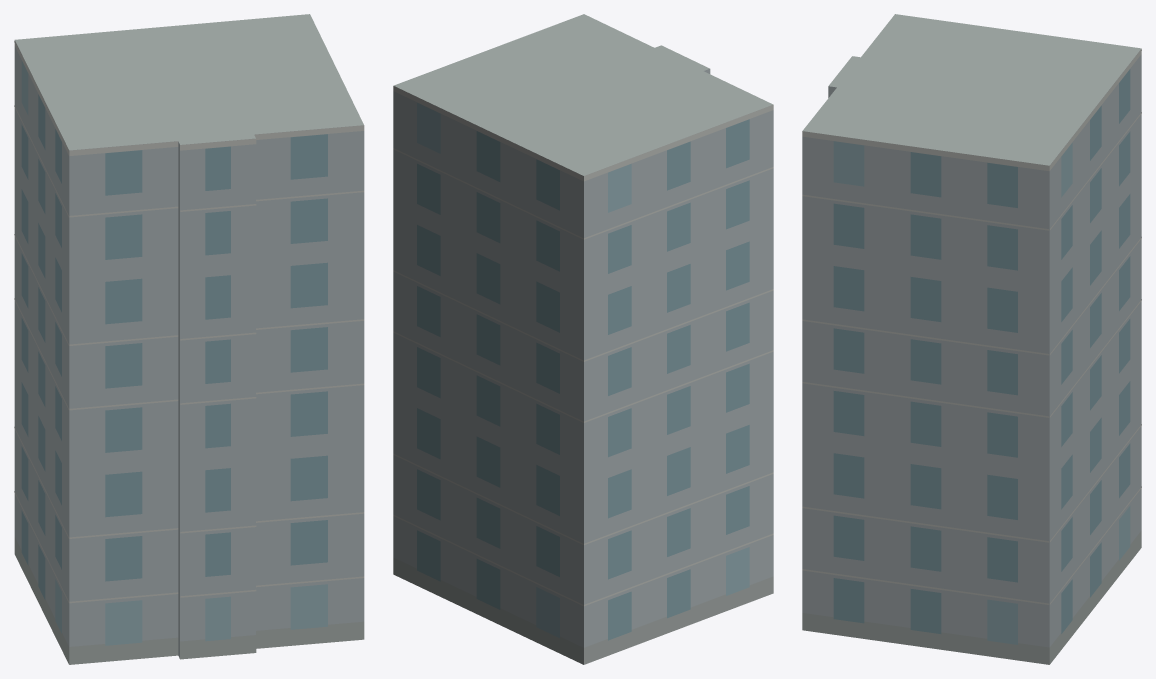
File: survey-upis-32537405.glb
3 views of the same model, side by side, from view 1: azimuth 30°, elevation 25°; view 2: azimuth 150°, elevation 25°; view 3: azimuth 270°, elevation 25° (orthographic). The views are drawn at different scales.
Visible parts, largest first — view 1: survey-upis-32537405.tmp; view 2: survey-upis-32537405.tmp; view 3: survey-upis-32537405.tmp.
Boxes of the visible parts, x1=… form: survey-upis-32537405.tmp: x1=14, y1=14, x2=364, y2=664; survey-upis-32537405.tmp: x1=393, y1=14, x2=773, y2=664; survey-upis-32537405.tmp: x1=802, y1=14, x2=1141, y2=664.
Size of the model in its own units: 14.3 by 21.9 by 13.52.
